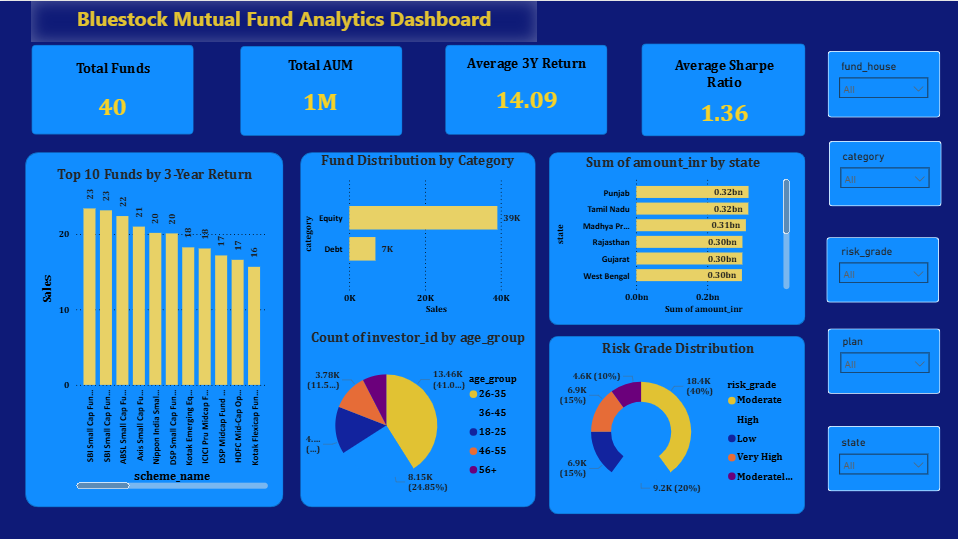

This screenshot's page, from the dashboard's own definition file:
{"tool":"powerbi","page":{"name":"Industry Overview","canvas":[1280,720],"ordinal":1},"visuals":[{"type":"shape","box":[857,57,218.6,123.8],"z":0,"group":"g7"},{"type":"shape","box":[43,58.1,216.3,119.8],"z":0},{"type":"shape","box":[594.2,58.1,216.2,120],"z":0,"group":"g3"},{"type":"shape","box":[1105.7,67.1,150,88.6],"z":0,"group":"g8"},{"type":"shape","box":[1107.1,187.1,150,87.1],"z":0,"group":"g9"},{"type":"shape","box":[733.7,201.2,341.9,230.2],"z":0,"group":"g6"},{"type":"shape","box":[402.6,201.4,314,473.3],"z":0,"group":"g2"},{"type":"shape","box":[1102.9,315.7,150,87.1],"z":0,"group":"g10"},{"type":"shape","box":[1104.3,437.1,150,87.1],"z":0,"group":"g11"},{"type":"shape","box":[733.7,446.5,341.2,237.5],"z":0,"group":"g1"},{"type":"shape","box":[1104.3,567.1,150,87.1],"z":0,"group":"g12"},{"type":"shape","box":[34.9,201.2,344.2,473.3],"z":5,"group":"g5"},{"type":"slicer","fields":{"Values":["clean_fund_master.fund_house"]},"box":[1111.4,73.8,138.6,78.5],"z":12,"group":"g8"},{"type":"slicer","fields":{"Values":["clean_performance.category"]},"box":[1112.8,193.7,138.6,77.2],"z":12,"group":"g9"},{"type":"slicer","fields":{"Values":["clean_performance.risk_grade"]},"box":[1109,320.6,138.6,77.1],"z":12,"group":"g10"},{"type":"slicer","fields":{"Values":["clean_fund_master.plan"]},"box":[1111.2,441.2,138.6,77.1],"z":12,"group":"g11"},{"type":"slicer","fields":{"Values":["clean_transactions.state"]},"box":[1108.6,576.1,138.6,74.3],"z":12,"group":"g12"},{"type":"clusteredColumnChart","title":"Top 10 Funds by 3-Year Return","fields":{"Category":["clean_fund_master.scheme_name"],"Y":["Sum(clean_performance.return_3yr_pct)"]},"box":[50.9,220,312,435.5],"z":27,"group":"g5"},{"type":"cardVisual","title":"Average Sharpe Ratio","fields":{"Data":["Avg(clean_performance.sharpe_ratio)"]},"box":[874.7,74.5,184.5,103.8],"z":1000,"group":"g7"},{"type":"barChart","title":"Fund Distribution by Category","fields":{"Category":["clean_fund_master.category"],"Y":["CountNonNull(02_nav_history_clean.amfi_code)"]},"box":[402.3,201.2,313.8,221.2],"z":1000,"group":"g2"},{"type":"barChart","fields":{"Category":["clean_transactions.state"],"Y":["Sum(clean_transactions.amount_inr)"]},"box":[739.2,203.5,320.8,218.6],"z":1000,"group":"g6"},{"type":"group","id":"g1","title":"Group 1","box":[733.7,446.5,342.2,237.5],"z":1000},{"type":"group","id":"g2","title":"Group 2","box":[402.3,201.2,314,473.3],"z":2000},{"type":"donutChart","title":"Risk Grade Distribution","fields":{"Category":["clean_performance.risk_grade"],"Y":["CountNonNull(02_nav_history_clean.amfi_code)"]},"box":[737.5,451.7,338.4,224.4],"z":2000,"group":"g1"},{"type":"group","id":"g3","title":"Group 4","box":[594.2,58.1,216.3,119.8],"z":3000},{"type":"shape","box":[322.1,59.3,216.3,119.8],"z":3000,"group":"g4"},{"type":"group","id":"g4","title":"Group 5","box":[322.1,59.3,216.3,119.8],"z":4000},{"type":"cardVisual","title":"Average 3Y Return","fields":{"Data":["Avg(clean_performance.return_3yr_pct)"]},"box":[608.9,70.6,187.5,96.2],"z":5000,"group":"g3"},{"type":"group","id":"g5","title":"Group 6","box":[34.9,201.2,344.2,473.3],"z":5000},{"type":"cardVisual","title":"Total AUM","fields":{"Data":["Sum(clean_performance.aum_crore)"]},"box":[327.9,73.9,203.5,95.3],"z":6000,"group":"g4"},{"type":"cardVisual","title":"Total Funds","fields":{"Data":["CountNonNull(clean_fund_master.amfi_code)"]},"box":[59.3,79.1,183.7,100],"z":6000},{"type":"pieChart","fields":{"Category":["clean_transactions.age_group"],"Y":["CountNonNull(clean_transactions.investor_id)"]},"box":[402.3,437.2,314,237.2],"z":7000},{"type":"group","id":"g6","title":"Group 3","box":[733.7,201.2,341.9,230.2],"z":8000},{"type":"group","id":"g7","title":"Group 7","box":[857,57,218.6,123.3],"z":9000},{"type":"group","id":"g8","title":"Group 7","box":[1105.7,67.1,150,88.6],"z":10000},{"type":"group","id":"g9","title":"Group 7","box":[1107.1,187.1,150,87.1],"z":11000},{"type":"group","id":"g10","title":"Group 7","box":[1102.9,315.7,150,87.1],"z":12000},{"type":"group","id":"g11","title":"Group 7","box":[1104.3,437.1,150,87.1],"z":13000},{"type":"group","id":"g12","title":"Group 7","box":[1104.3,567.1,150,87.1],"z":14000},{"type":"textbox","box":[43,0,673.3,54.7],"z":15000}]}

Visuals, with their boxes in screenshot pixels (x1, y1, x2, y2), scaled from the page's 1280x720 canvas onto the 958x539 screenshot:
shape: BBox(641, 43, 805, 135)
shape: BBox(32, 43, 194, 133)
shape: BBox(445, 43, 607, 133)
shape: BBox(828, 50, 940, 117)
shape: BBox(829, 140, 941, 205)
shape: BBox(549, 151, 805, 323)
shape: BBox(301, 151, 536, 505)
shape: BBox(825, 236, 938, 302)
shape: BBox(826, 327, 939, 392)
shape: BBox(549, 334, 804, 512)
shape: BBox(826, 425, 939, 490)
shape: BBox(26, 151, 284, 505)
slicer - clean_fund_master.fund_house: BBox(832, 55, 936, 114)
slicer - clean_performance.category: BBox(833, 145, 937, 203)
slicer - clean_performance.risk_grade: BBox(830, 240, 934, 298)
slicer - clean_fund_master.plan: BBox(832, 330, 935, 388)
slicer - clean_transactions.state: BBox(830, 431, 933, 487)
"Top 10 Funds by 3-Year Return" clusteredColumnChart: BBox(38, 165, 272, 491)
"Average Sharpe Ratio" cardVisual: BBox(655, 56, 793, 133)
"Fund Distribution by Category" barChart: BBox(301, 151, 536, 316)
barChart - clean_transactions.state x Sum(clean_transactions.amount_inr): BBox(553, 152, 793, 316)
"Group 1" group: BBox(549, 334, 805, 512)
"Group 2" group: BBox(301, 151, 536, 505)
"Risk Grade Distribution" donutChart: BBox(552, 338, 805, 506)
"Group 4" group: BBox(445, 43, 607, 133)
shape: BBox(241, 44, 403, 134)
"Group 5" group: BBox(241, 44, 403, 134)
"Average 3Y Return" cardVisual: BBox(456, 53, 596, 125)
"Group 6" group: BBox(26, 151, 284, 505)
"Total AUM" cardVisual: BBox(245, 55, 398, 127)
"Total Funds" cardVisual: BBox(44, 59, 182, 134)
pieChart - clean_transactions.age_group x CountNonNull(clean_transactions.investor_id): BBox(301, 327, 536, 505)
"Group 3" group: BBox(549, 151, 805, 323)
"Group 7" group: BBox(641, 43, 805, 135)
"Group 7" group: BBox(828, 50, 940, 117)
"Group 7" group: BBox(829, 140, 941, 205)
"Group 7" group: BBox(825, 236, 938, 302)
"Group 7" group: BBox(826, 327, 939, 392)
"Group 7" group: BBox(826, 425, 939, 490)
textbox: BBox(32, 0, 536, 41)
